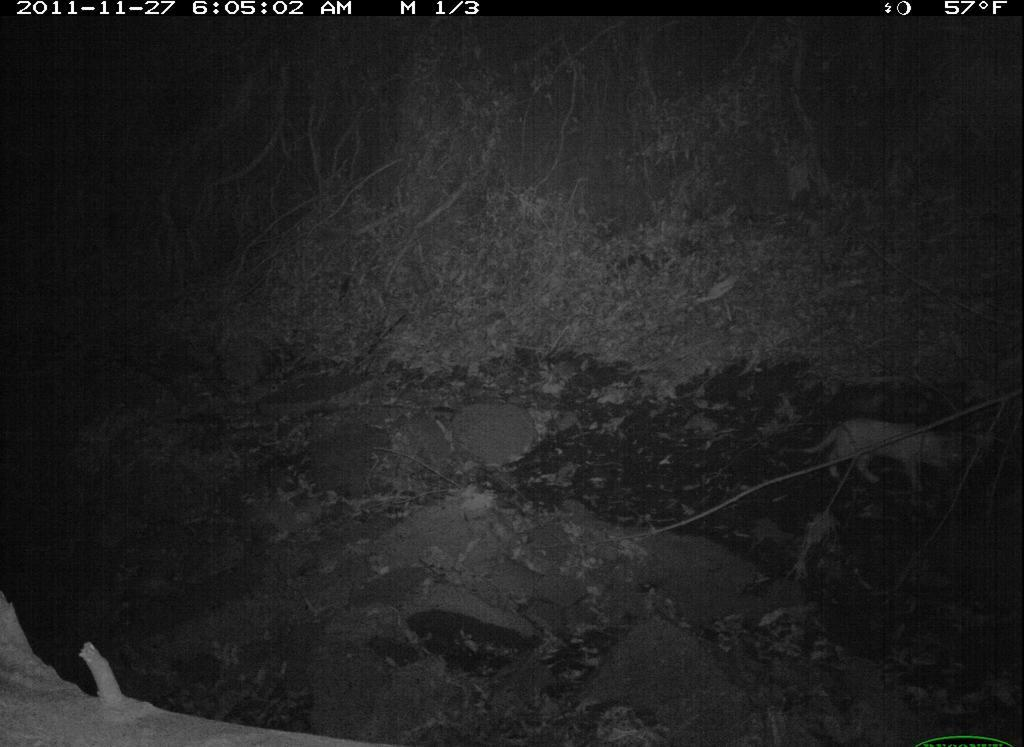cat: (789, 417, 961, 502)
